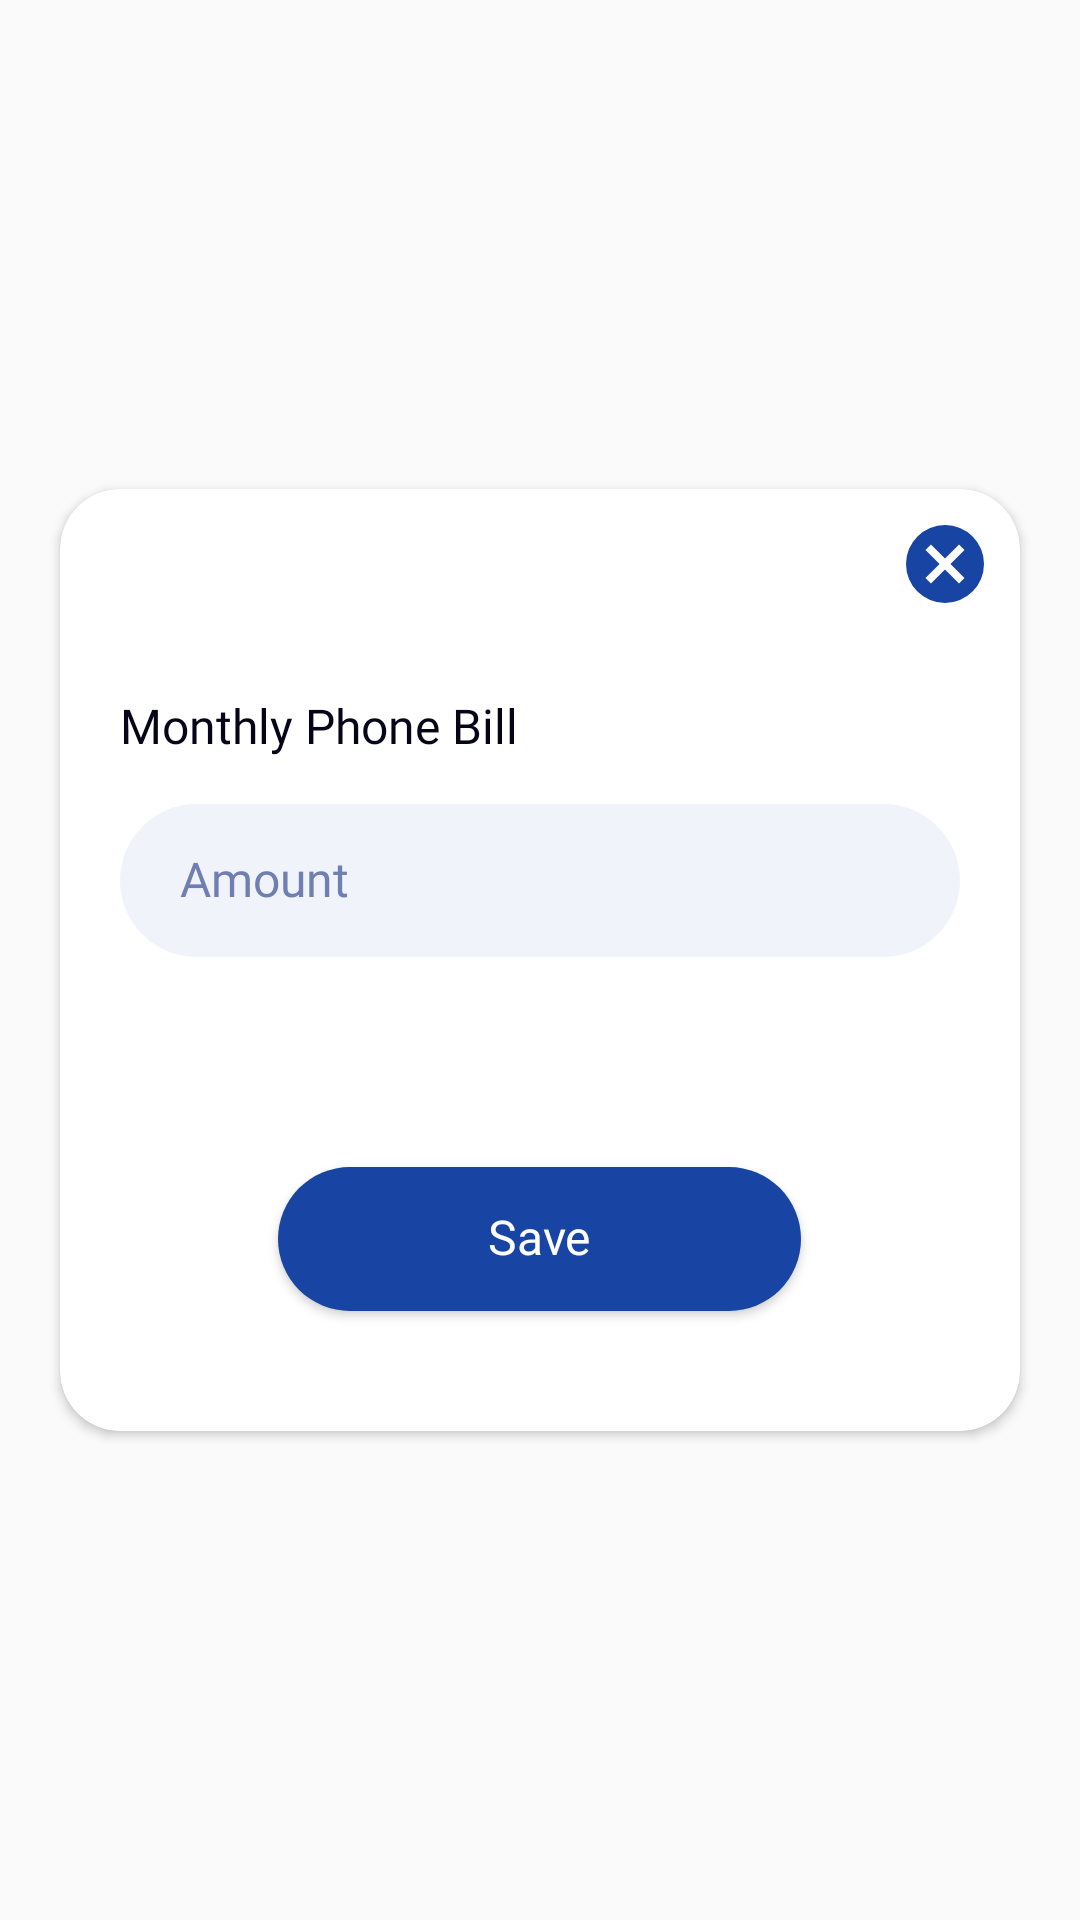

Screen size 1080px x 1920px. Icon name, then its center in pixels as (x=x, y=y):
close dialog: (x=957, y=557)
